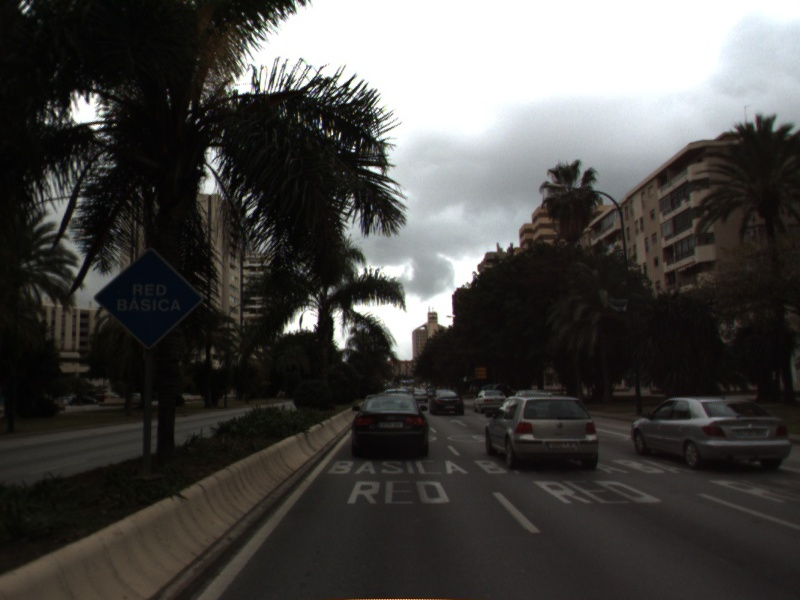STRAIGHT: (447, 416, 470, 429)
